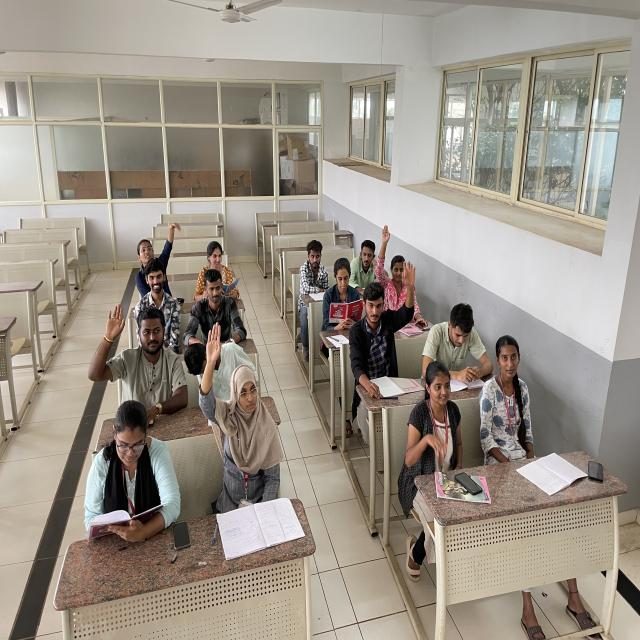Hand Rising: (197, 319, 285, 504), (88, 302, 192, 421), (349, 261, 418, 382), (376, 223, 420, 302), (127, 220, 186, 276)
Reading: (79, 399, 183, 554), (476, 334, 551, 480), (420, 302, 493, 384), (320, 258, 365, 329), (192, 235, 240, 298), (296, 238, 334, 312), (351, 235, 385, 298)
Using Phone: (185, 268, 248, 346)
